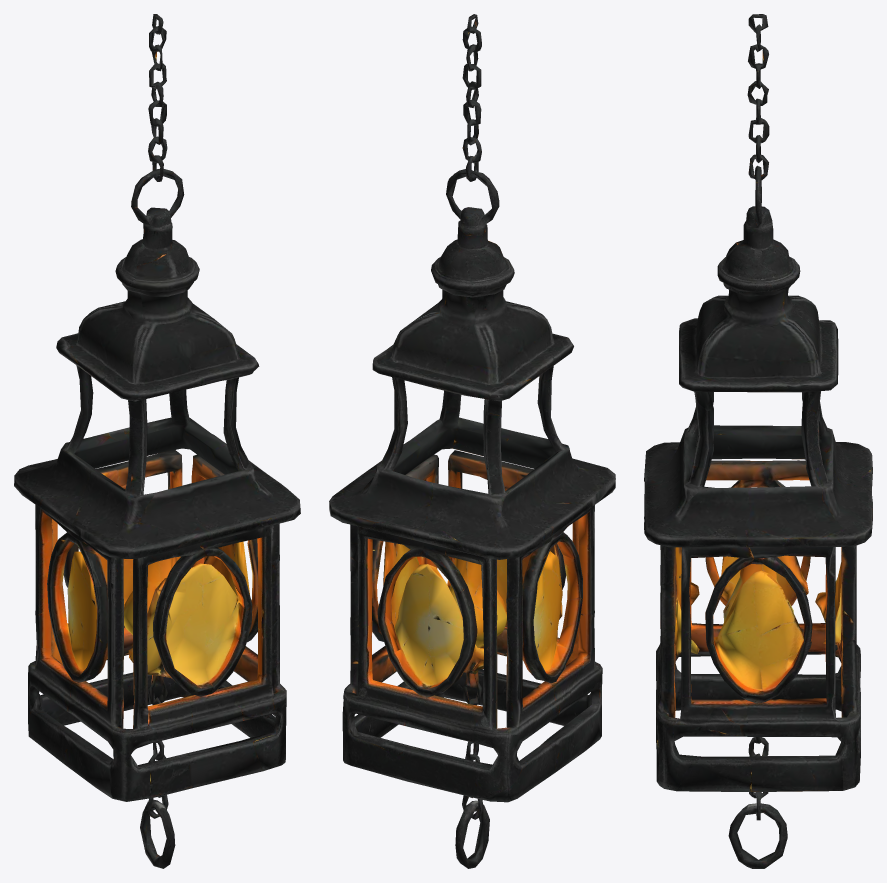
The model's file is hanging-lantern.glb.
3 views of the same model, side by side, from view 1: azimuth 30°, elevation 25°; view 2: azimuth 150°, elevation 25°; view 3: azimuth 270°, elevation 25° (orthographic).
Size of the model in its own units: 0.4605 by 1.9 by 0.4606.
1 material, 1 textured.
